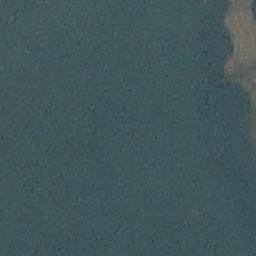debris: (226, 1, 253, 33), (219, 58, 256, 79), (229, 32, 256, 59), (240, 80, 256, 97)
